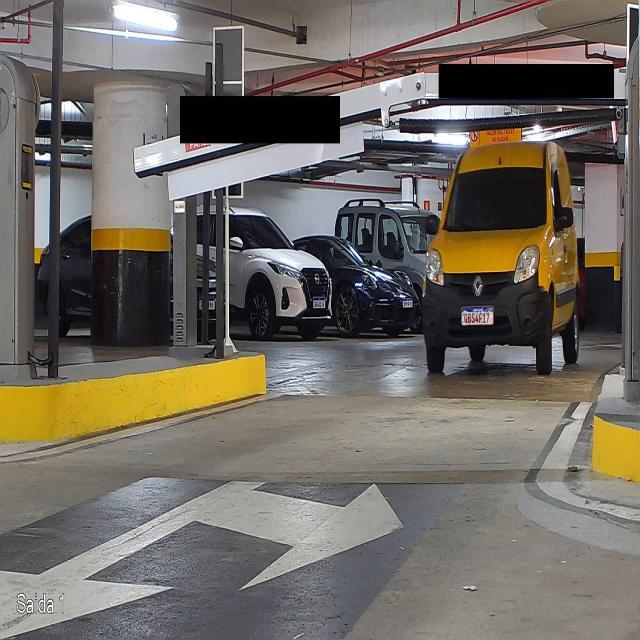old_plate: (460, 305, 495, 326)
